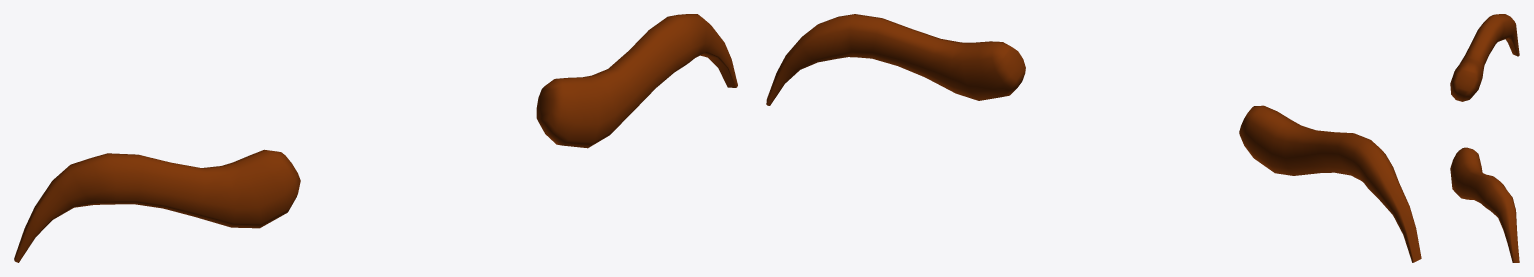
Rendered from Eyebrows_27_02.fbx.
3 renders of one model, left to right at view 1: azimuth 30°, elevation 25°; view 2: azimuth 150°, elevation 25°; view 3: azimuth 270°, elevation 25°, orthographic. The views are drawn at different scales.
Visible parts, largest first — view 1: Eyebrows_27_02; view 2: Eyebrows_27_02; view 3: Eyebrows_27_02.
Part boxes in pixels (bbox=[...]): Eyebrows_27_02: bbox=[14, 14, 737, 262]; Eyebrows_27_02: bbox=[766, 14, 1421, 262]; Eyebrows_27_02: bbox=[1450, 14, 1519, 262].
Size of the model in its own units: 18.72 by 2.55 by 2.61.
